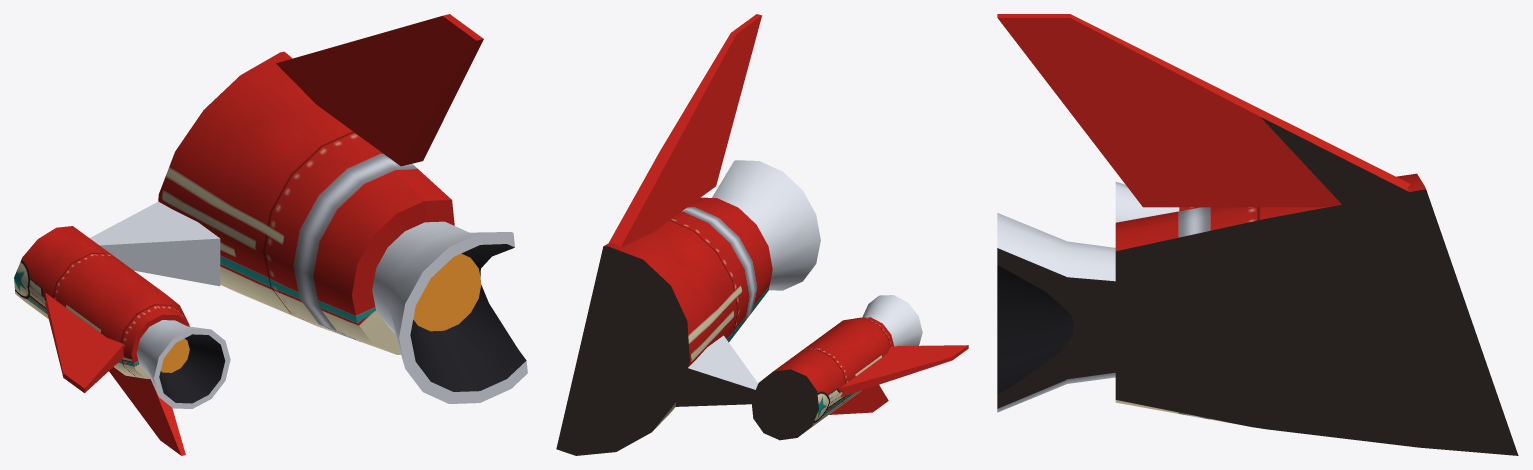
The model's file is meteor_debris4.obj.
The picture shows the model from 3 angles, left to right: view 1: azimuth 30°, elevation 25°; view 2: azimuth 150°, elevation 25°; view 3: azimuth 270°, elevation 25°; orthographic projection. The views are drawn at different scales.
Visible parts, largest first — view 1: hull, bell, fin_top, booster, pylon, booster_bell, booster_fin, booster_fin_lo; view 2: hull, fin_top, booster, bell, pylon, booster_fin, booster_bell, booster_fin_lo; view 3: hull, fin_top, bell, booster_bell.
Boxes of the visible parts, left/top/right/bottom form: hull: left=158, top=51, right=454, bottom=354; bell: left=372, top=221, right=527, bottom=403; fin_top: left=276, top=14, right=483, bottom=166; booster: left=14, top=226, right=189, bottom=378; pylon: left=90, top=201, right=220, bottom=286; booster_bell: left=136, top=320, right=230, bottom=408; booster_fin: left=45, top=293, right=123, bottom=393; booster_fin_lo: left=109, top=367, right=185, bottom=455; hull: left=556, top=197, right=772, bottom=455; fin_top: left=601, top=14, right=761, bottom=258; booster: left=752, top=317, right=893, bottom=440; bell: left=712, top=160, right=820, bottom=290; pylon: left=675, top=335, right=758, bottom=406; booster_fin: left=840, top=345, right=968, bottom=397; booster_bell: left=862, top=295, right=922, bottom=346; booster_fin_lo: left=829, top=385, right=888, bottom=414; hull: left=1115, top=173, right=1518, bottom=455; fin_top: left=997, top=14, right=1431, bottom=207; bell: left=997, top=213, right=1124, bottom=412; booster_bell: left=1115, top=182, right=1179, bottom=222.
Size of the model in its own units: 5.2 by 5.25 by 5.73.
6 materials, 1 textured.
